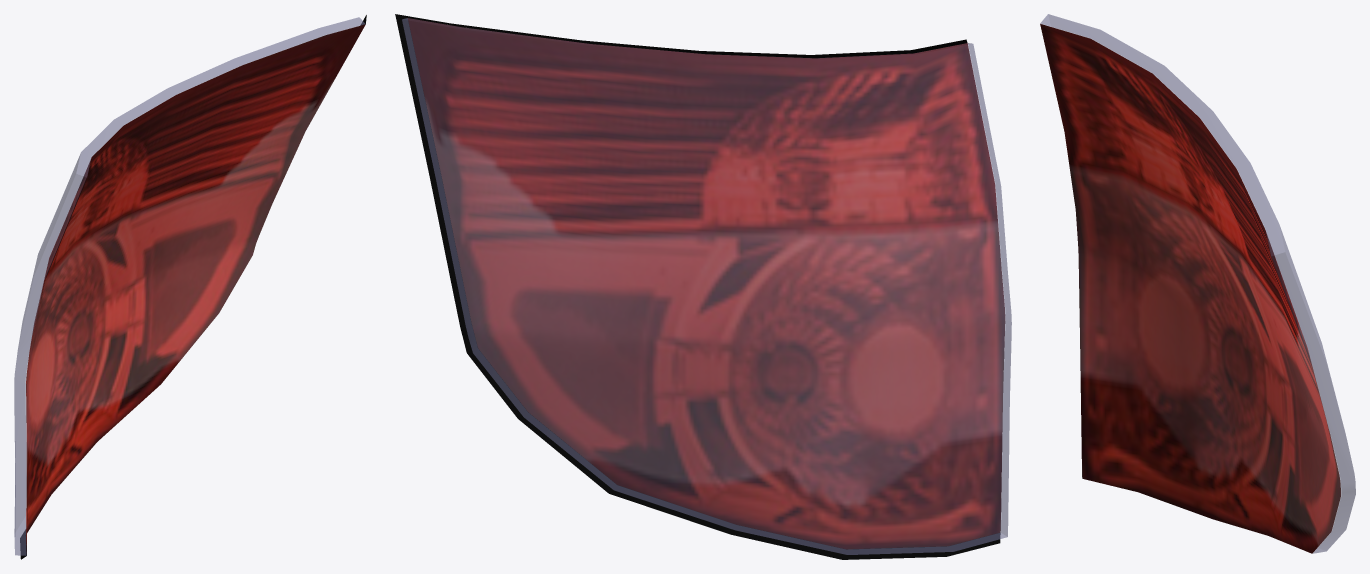
The picture shows the model from 3 angles, left to right: view 1: azimuth 30°, elevation 25°; view 2: azimuth 150°, elevation 25°; view 3: azimuth 270°, elevation 25°; orthographic projection. The views are drawn at different scales.
Visible parts, largest first — view 1: Y613_541C_L_1_N_Y613_541C_L, Y613_541C_L_Y613_541C_L_2_DTaSI; view 2: Y613_541C_L_Y613_541C_L_2_DTaSI, Y613_541C_L_1_N_Y613_541C_L, Y613_541C_L_Y613_541C_L_3_D; view 3: Y613_541C_L_1_N_Y613_541C_L, Y613_541C_L_Y613_541C_L_2_DTaSI.
Boxes of the visible parts, left/top/right/bottom form: Y613_541C_L_1_N_Y613_541C_L: left=26, top=24, right=365, bottom=552; Y613_541C_L_Y613_541C_L_2_DTaSI: left=14, top=17, right=365, bottom=555; Y613_541C_L_Y613_541C_L_2_DTaSI: left=402, top=18, right=1011, bottom=554; Y613_541C_L_1_N_Y613_541C_L: left=408, top=18, right=1005, bottom=549; Y613_541C_L_Y613_541C_L_3_D: left=395, top=14, right=1000, bottom=559; Y613_541C_L_1_N_Y613_541C_L: left=1040, top=24, right=1340, bottom=553; Y613_541C_L_Y613_541C_L_2_DTaSI: left=1040, top=14, right=1355, bottom=553.
Bounding box in the file's own units: 28.65 × 24.91 × 14.35.
